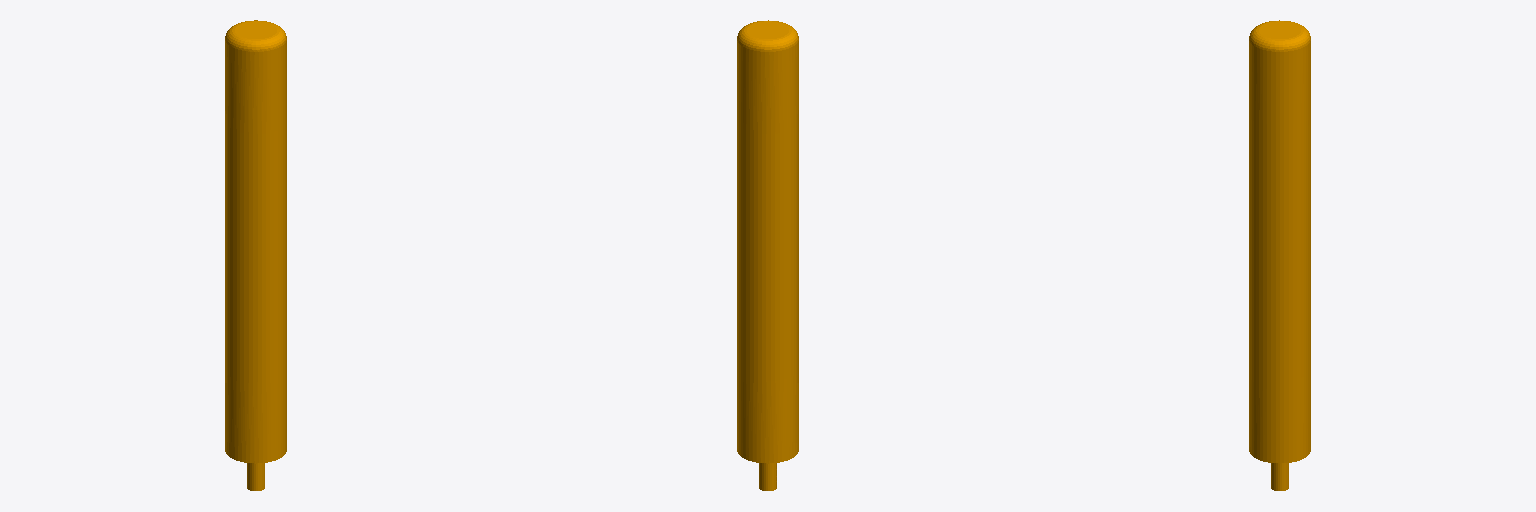
URDF robot description (flisat_leg):
<?xml version="1.0" encoding="utf-8"?>
<robot name="flisat_leg">

  <link name="flisat_leg_link">
    <inertial>
      <origin rpy="0 0 0" xyz="0 0 0"/>
       <mass value="1.0"/>
       <inertia ixx="1" ixy="0" ixz="0" iyy="1" iyz="0" izz="1"/>
    </inertial>
    <visual>
      <origin rpy="0 0 0" xyz="0 0 0"/>
      <geometry>
        <mesh filename="package://stool_description/meshes/flisat_leg.stl" scale="1 1 1" />
      </geometry>
    </visual>
    <collision>
      <origin rpy="0 0 0" xyz="0 0 0"/>
      <geometry>
        <mesh filename="package://stool_description/meshes/flisat_leg.stl" scale="1 1 1" />
      </geometry>
    </collision>
  </link>

  <!-- define the ur5's position and orientation in the world coordinate system -->          
</robot>

--- Render facts (derived) ---
3 views of the same robot in one strip: view 1: azimuth 30°, elevation 25°; view 2: azimuth 150°, elevation 25°; view 3: azimuth 270°, elevation 25° (orthographic).
Model flisat_leg with 1 links and 0 joints (none), rooted at flisat_leg_link, posed all joints at 0.
Links seen in each view (by area): view 1: flisat_leg_link; view 2: flisat_leg_link; view 3: flisat_leg_link.
Link boxes in pixels (bbox=[...]): flisat_leg_link: bbox=[225, 20, 286, 490]; flisat_leg_link: bbox=[737, 20, 798, 490]; flisat_leg_link: bbox=[1249, 20, 1310, 490].
Bounding box of the posed robot: 0.0342 × 0.0342 × 0.2796 m (x, y, z).
1 mesh visuals loaded from 1 distinct referenced files (1 binary STL).